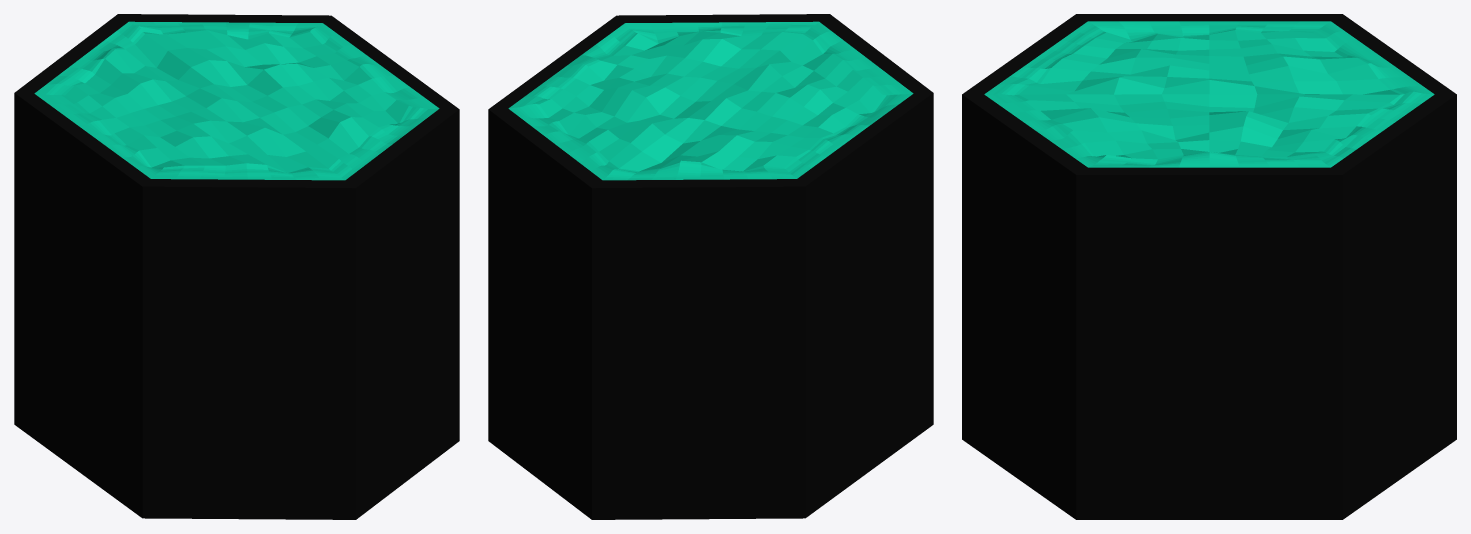
File: water-hex.obj
The picture shows the model from 3 angles, left to right: view 1: azimuth 30°, elevation 25°; view 2: azimuth 150°, elevation 25°; view 3: azimuth 270°, elevation 25°; orthographic projection. The views are drawn at different scales.
Visible parts, largest first — view 1: Cube.001; view 2: Cube.001; view 3: Cube.001.
Part boxes in pixels (x1,y1,x2,y2): Cube.001: (14, 14, 459, 519); Cube.001: (488, 14, 933, 519); Cube.001: (962, 14, 1456, 519).
Size of the model in its own units: 2 by 2.06 by 2.6.
